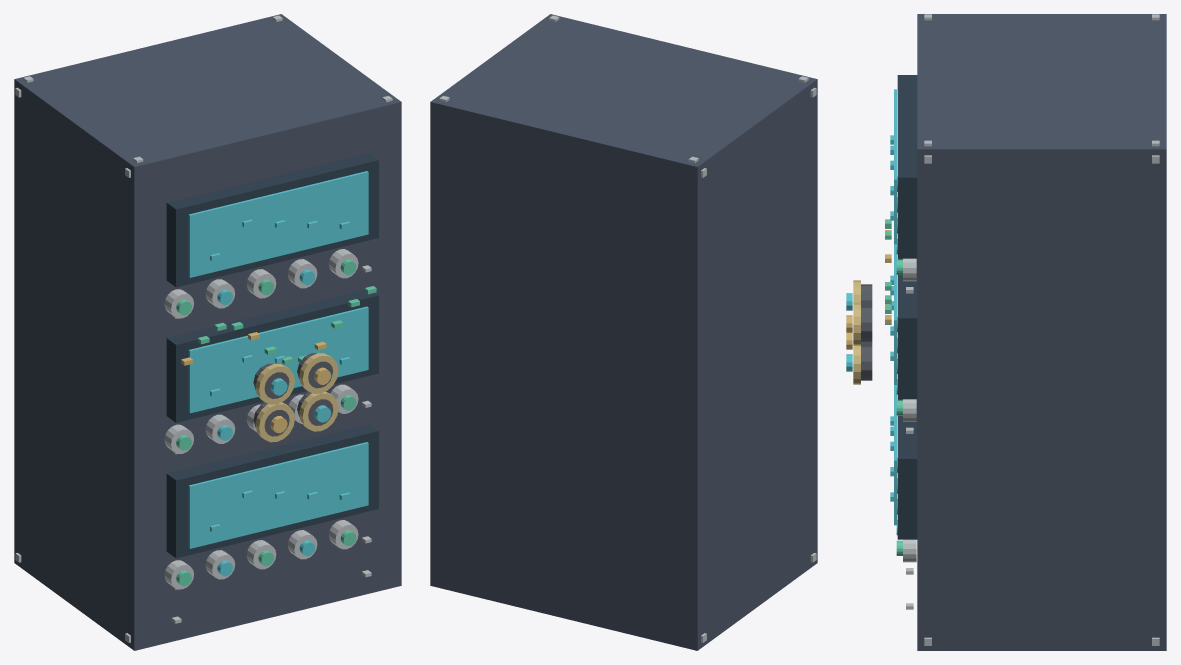
The model's file is 42_L82_ConductedEmissionMeasurementRack.glb.
The picture shows the model from 3 angles, left to right: view 1: azimuth 30°, elevation 25°; view 2: azimuth 150°, elevation 25°; view 3: azimuth 270°, elevation 25°; orthographic projection. The views are drawn at different scales.
Parts seen in each view (by area): view 1: ConductedEmissionMeasurementRack_Node_0000, ConductedEmissionMeasurementRack_Node_0010, ConductedEmissionMeasurementRack_Node_0044, ConductedEmissionMeasurementRack_Node_0027, ConductedEmissionMeasurementRack_Node_0009, ConductedEmissionMeasurementRack_Node_0043, ConductedEmissionMeasurementRack_Node_0026, ConductedEmissionMeasurementRack_Node_0108, ConductedEmissionMeasurementRack_Node_0105, ConductedEmissionMeasurementRack_Node_0102, ConductedEmissionMeasurementRack_Node_0099; view 2: ConductedEmissionMeasurementRack_Node_0000; view 3: ConductedEmissionMeasurementRack_Node_0000, ConductedEmissionMeasurementRack_Node_0009, ConductedEmissionMeasurementRack_Node_0043, ConductedEmissionMeasurementRack_Node_0026, ConductedEmissionMeasurementRack_Node_0010.
Boxes of the visible parts, x1,y1,x2,y2 form: ConductedEmissionMeasurementRack_Node_0000: (14,14,401,650); ConductedEmissionMeasurementRack_Node_0010: (188,171,368,277); ConductedEmissionMeasurementRack_Node_0044: (188,442,368,548); ConductedEmissionMeasurementRack_Node_0027: (188,306,368,413); ConductedEmissionMeasurementRack_Node_0009: (166,153,378,287); ConductedEmissionMeasurementRack_Node_0043: (166,424,378,558); ConductedEmissionMeasurementRack_Node_0026: (166,290,378,422); ConductedEmissionMeasurementRack_Node_0108: (299,353,338,393); ConductedEmissionMeasurementRack_Node_0105: (255,364,294,404); ConductedEmissionMeasurementRack_Node_0102: (299,391,338,431); ConductedEmissionMeasurementRack_Node_0099: (255,402,294,442); ConductedEmissionMeasurementRack_Node_0000: (430,14,817,650); ConductedEmissionMeasurementRack_Node_0000: (917,14,1166,650); ConductedEmissionMeasurementRack_Node_0009: (897,75,917,258); ConductedEmissionMeasurementRack_Node_0043: (897,399,917,539); ConductedEmissionMeasurementRack_Node_0026: (897,258,917,399); ConductedEmissionMeasurementRack_Node_0010: (894,89,896,244).
Bounding box in the file's own units: 1.06 × 1.82 × 1.04.
